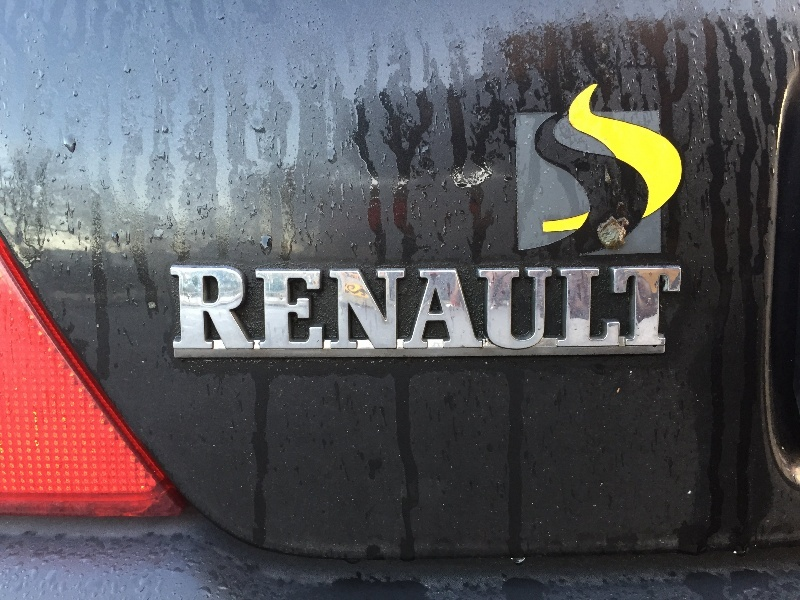text: (529, 61, 544, 255), (545, 61, 560, 255), (561, 61, 576, 255), (577, 61, 592, 255), (593, 61, 608, 255), (609, 61, 624, 255), (625, 61, 640, 255), (641, 61, 656, 255), (657, 61, 672, 255), (673, 61, 687, 255), (515, 61, 528, 255), (177, 265, 192, 360), (193, 265, 208, 360), (209, 265, 224, 360), (225, 265, 240, 360), (241, 265, 256, 360), (257, 265, 272, 360), (273, 265, 288, 360), (289, 265, 304, 360), (305, 265, 320, 360), (321, 265, 336, 360), (337, 265, 352, 360), (353, 265, 368, 360), (369, 265, 384, 360), (385, 265, 400, 360), (401, 265, 416, 360), (417, 265, 432, 360), (433, 265, 448, 360), (449, 265, 464, 360), (465, 265, 480, 360), (481, 265, 496, 360), (497, 265, 512, 360), (513, 265, 528, 360), (529, 265, 544, 360), (545, 265, 560, 360), (561, 265, 576, 360), (577, 265, 592, 360), (593, 265, 608, 360), (609, 265, 624, 360), (625, 265, 640, 360), (641, 265, 656, 360), (657, 265, 672, 360), (673, 265, 688, 360), (169, 265, 176, 360)
